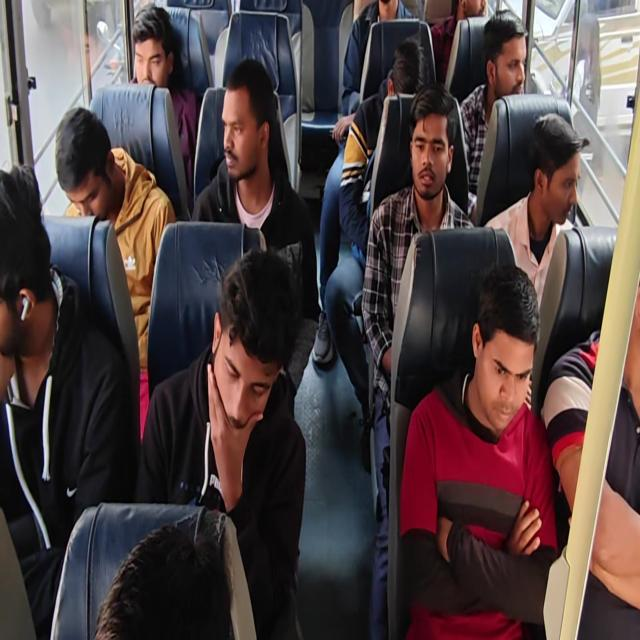person: (93, 531, 264, 640), (208, 252, 286, 442), (205, 74, 275, 208), (0, 175, 51, 348), (48, 106, 116, 210), (474, 272, 521, 421), (525, 122, 580, 222), (407, 110, 455, 203), (127, 12, 178, 92), (485, 20, 530, 106), (386, 51, 430, 110), (453, 0, 494, 35), (372, 0, 401, 35)
